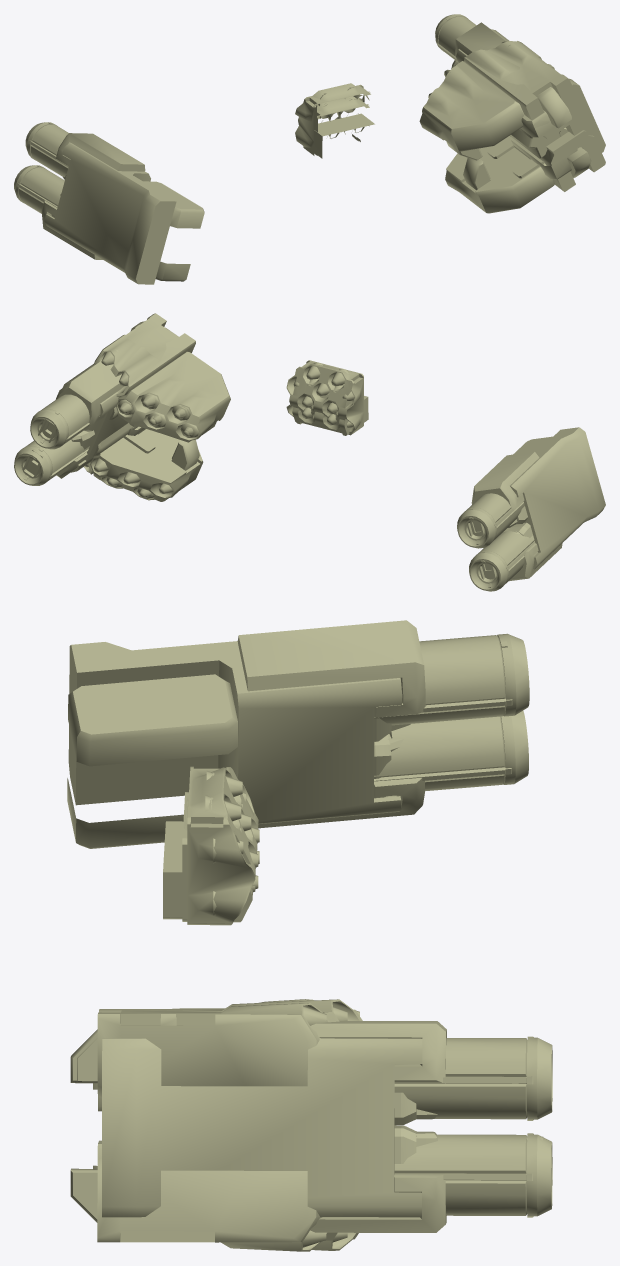
File: CommandoWeapons.glb
3 views of the same model, one above another, from view 1: azimuth 30°, elevation 25°; view 2: azimuth 150°, elevation 25°; view 3: azimuth 270°, elevation 25° (orthographic). The views are drawn at different scales.
Visible parts, largest first — view 1: Forearm_Left_EH1_PPC, Forearm_Right_MH2_Missile10, Forearm_Right_MH1_Missile10, Forearm_Left_EH1_Flamer, Forearm_Right_EH1_PPC, Forearm_Left_EH2_PPC, Forearm_Right_MH1_Missile2, Torso_Center_MH1_Missile10, Forearm_Right_EH1_Flamer, Forearm_Right_MH2_Missile2, Forearm_Right_MH2_Missile5, Torso_Center_MH1_Missile2 (+4 smaller); view 2: Forearm_Left_EH1_PPC, Forearm_Right_MH2_Missile10, Forearm_Right_EH1_PPC, Forearm_Right_MH1_Missile10, Forearm_Left_EH2_PPC, Forearm_Right_MH2_Missile2, Torso_Center_MH1_Missile10, Forearm_Right_EH2_PPC, Forearm_Right_MH2_Missile5, Torso_Center_MH1_Missile6, Forearm_Right_MH1_Missile2, Torso_Center_MH1_Missile4 (+3 smaller); view 3: Forearm_Left_EH1_Laser, Forearm_Right_EH1_Laser, Forearm_Left_EH1_PPC, Forearm_Right_MH1_Missile10, Forearm_Right_EH1_PPC, Forearm_Right_EH2_PPC, Forearm_Right_MH1_Missile4, Forearm_Left_EH2_PPC, Torso_Center_MH1_Missile10, Forearm_Left_EH1_Flamer, Forearm_Right_MH1_Missile2, Torso_Center_MH1_Missile6 (+3 smaller).
Boxes of the visible parts, <box> form: Forearm_Left_EH1_PPC: <box>25,122,180,283</box>; Forearm_Right_MH2_Missile10: <box>419,61,554,213</box>; Forearm_Right_MH1_Missile10: <box>464,41,605,191</box>; Forearm_Left_EH1_Flamer: <box>63,173,204,284</box>; Forearm_Right_EH1_PPC: <box>435,14,604,178</box>; Forearm_Left_EH2_PPC: <box>14,165,102,259</box>; Forearm_Right_MH1_Missile2: <box>464,49,568,158</box>; Torso_Center_MH1_Missile10: <box>295,83,370,155</box>; Forearm_Right_EH1_Flamer: <box>520,87,605,179</box>; Forearm_Right_MH2_Missile2: <box>426,61,512,145</box>; Forearm_Right_MH2_Missile5: <box>428,66,513,160</box>; Torso_Center_MH1_Missile2: <box>314,113,374,158</box>; Forearm_Left_EH1_PPC: <box>457,427,605,569</box>; Forearm_Right_MH2_Missile10: <box>90,352,230,501</box>; Forearm_Right_EH1_PPC: <box>30,321,144,470</box>; Forearm_Right_MH1_Missile10: <box>84,314,195,474</box>; Forearm_Left_EH2_PPC: <box>469,531,562,591</box>; Forearm_Right_MH2_Missile2: <box>116,351,228,441</box>; Torso_Center_MH1_Missile10: <box>286,360,363,435</box>; Forearm_Right_EH2_PPC: <box>14,440,89,485</box>; Forearm_Right_MH2_Missile5: <box>116,364,229,442</box>; Torso_Center_MH1_Missile6: <box>291,363,360,433</box>; Forearm_Right_MH1_Missile2: <box>109,313,195,428</box>; Torso_Center_MH1_Missile4: <box>292,377,347,435</box>; Forearm_Left_EH1_Laser: <box>71,641,402,848</box>; Forearm_Right_EH1_Laser: <box>93,1038,422,1217</box>; Forearm_Left_EH1_PPC: <box>76,620,529,802</box>; Forearm_Right_MH1_Missile10: <box>70,1003,358,1251</box>; Forearm_Right_EH1_PPC: <box>102,1021,552,1192</box>; Forearm_Right_EH2_PPC: <box>310,1133,552,1232</box>; Forearm_Right_MH1_Missile4: <box>70,1001,351,1110</box>; Forearm_Left_EH2_PPC: <box>258,710,528,828</box>; Torso_Center_MH1_Missile10: <box>187,766,258,925</box>; Forearm_Left_EH1_Flamer: <box>67,642,410,848</box>; Forearm_Right_MH1_Missile2: <box>75,999,362,1111</box>; Torso_Center_MH1_Missile6: <box>188,767,259,875</box>.
Size of the model in its own units: 1.78 by 0.5352 by 0.764.
